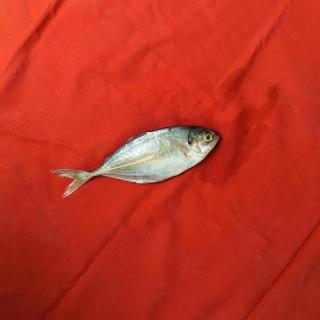Ikan: (67, 114, 230, 200)
